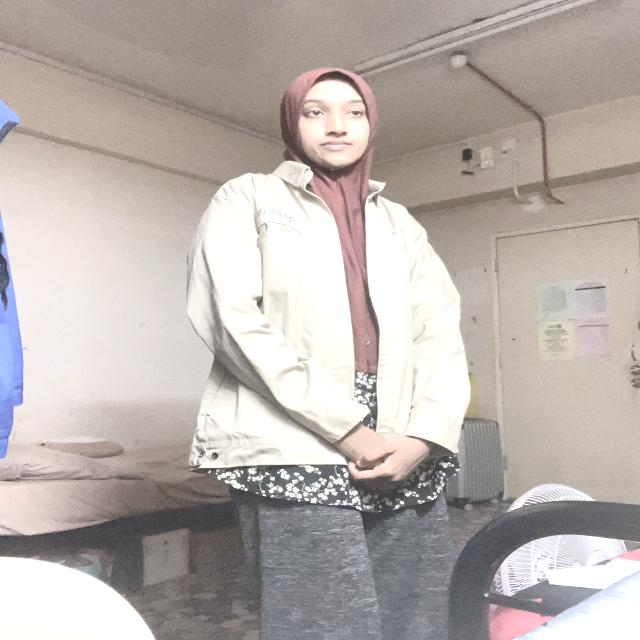person_with_labcoat: (187, 68, 470, 640)
